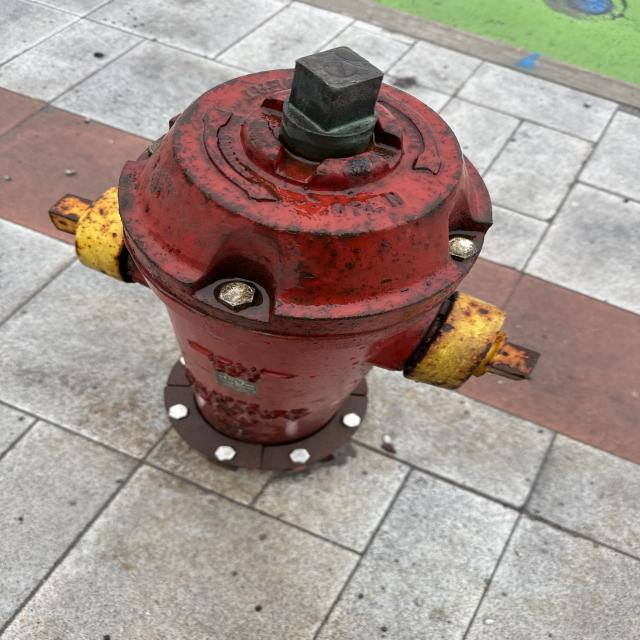Fire hydrant: (45, 44, 544, 476)
